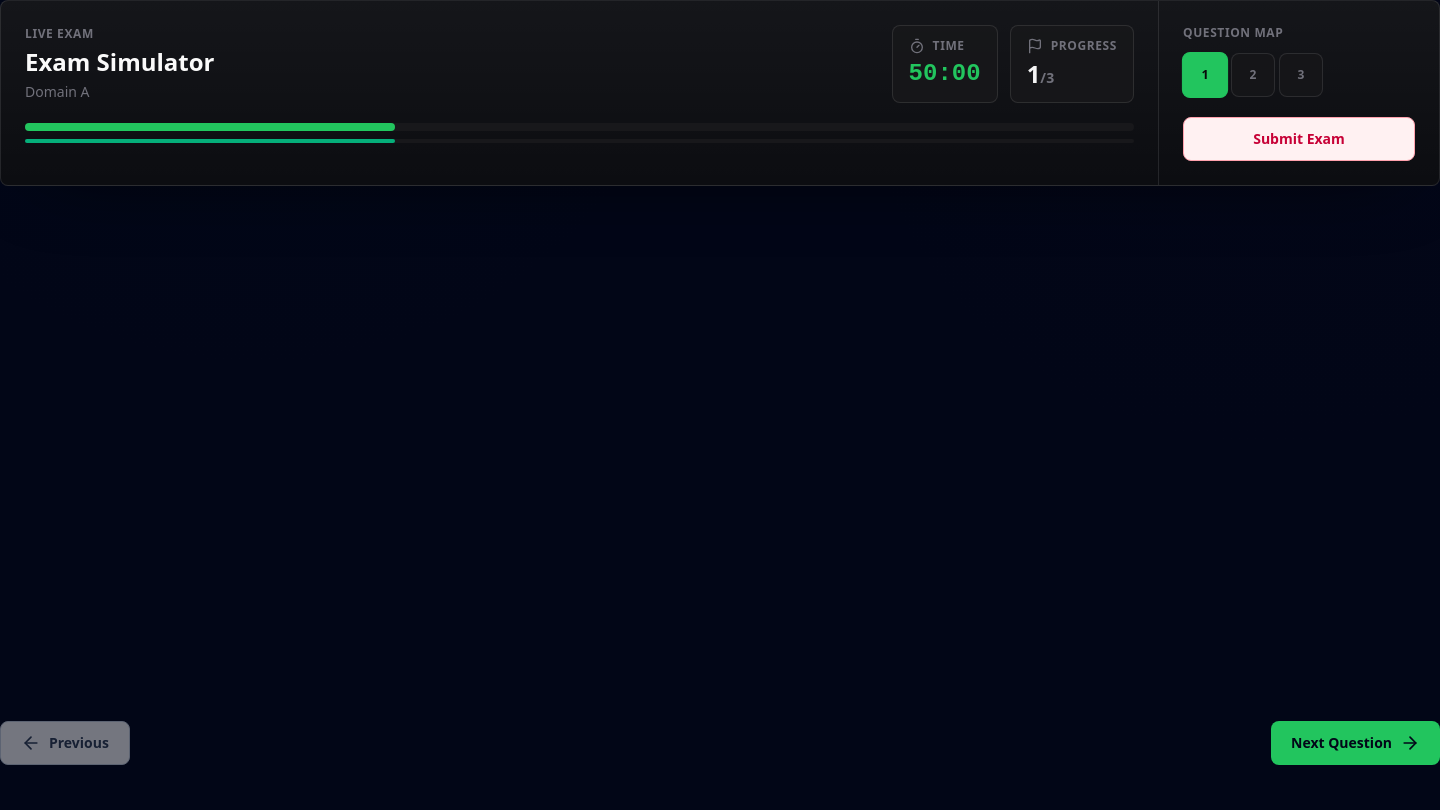
exam submission confirmation › traps focus and closes with Escape
Click the button "Submit Exam": (1299, 139) [1183,117,1415,161]
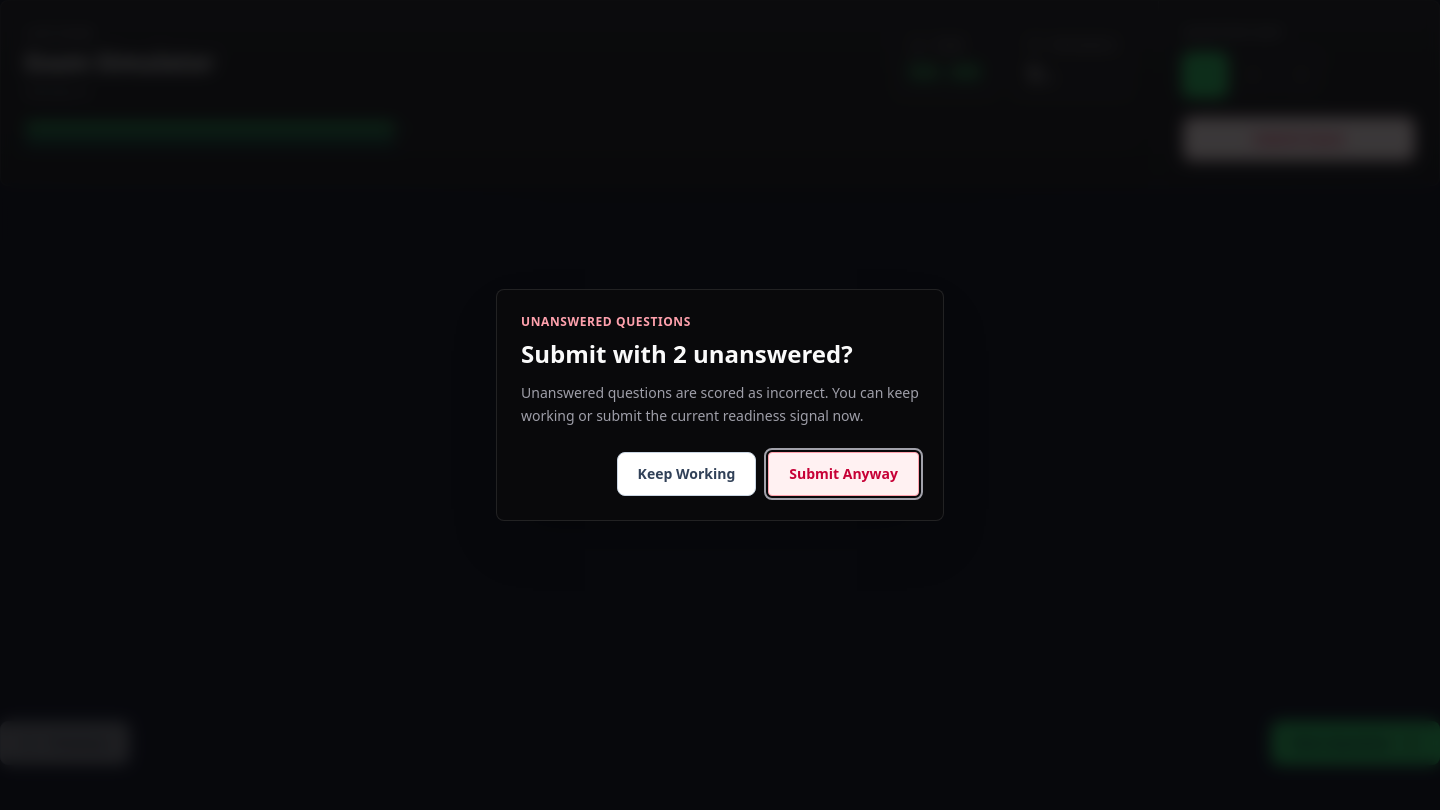
Press Tab
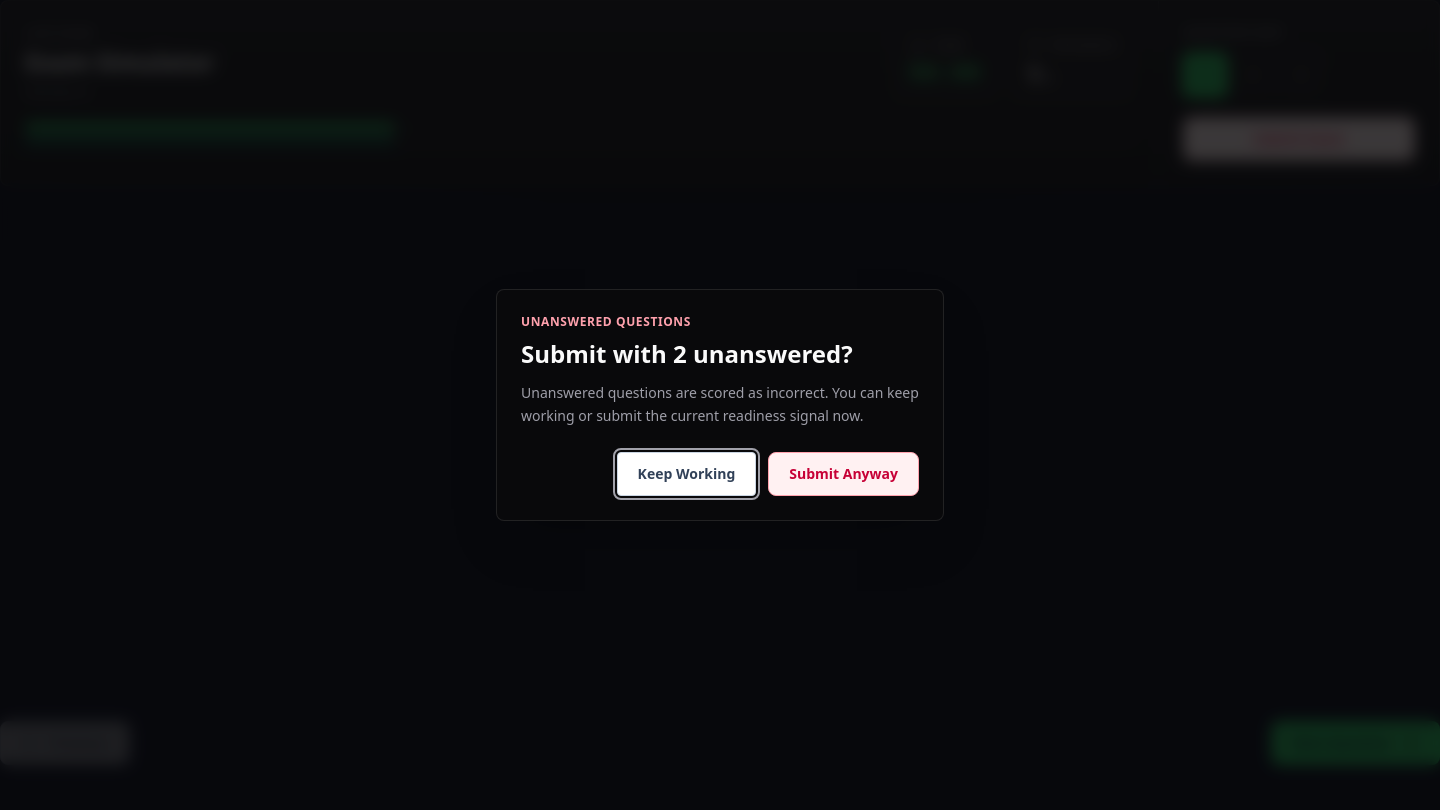
Press Tab
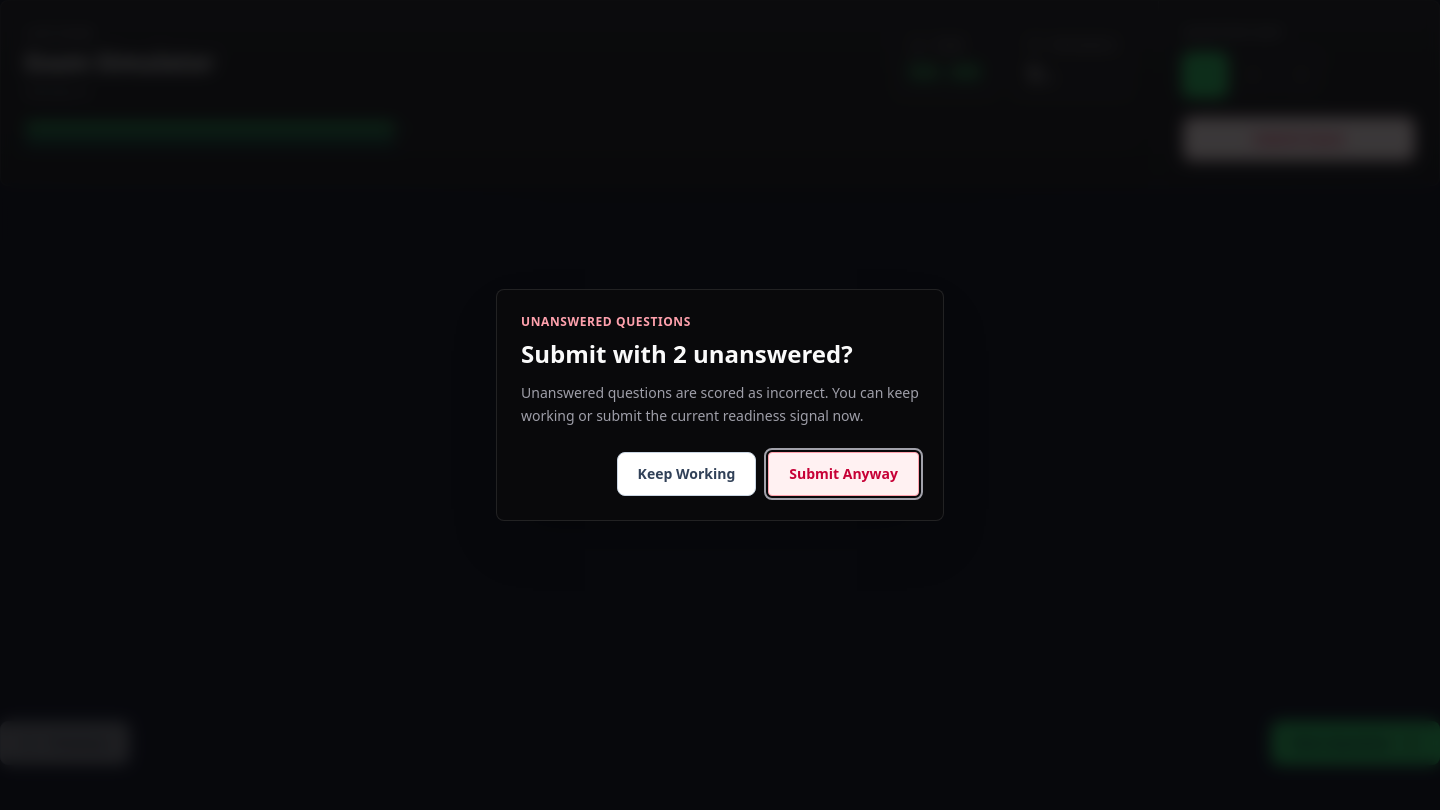
Press Escape
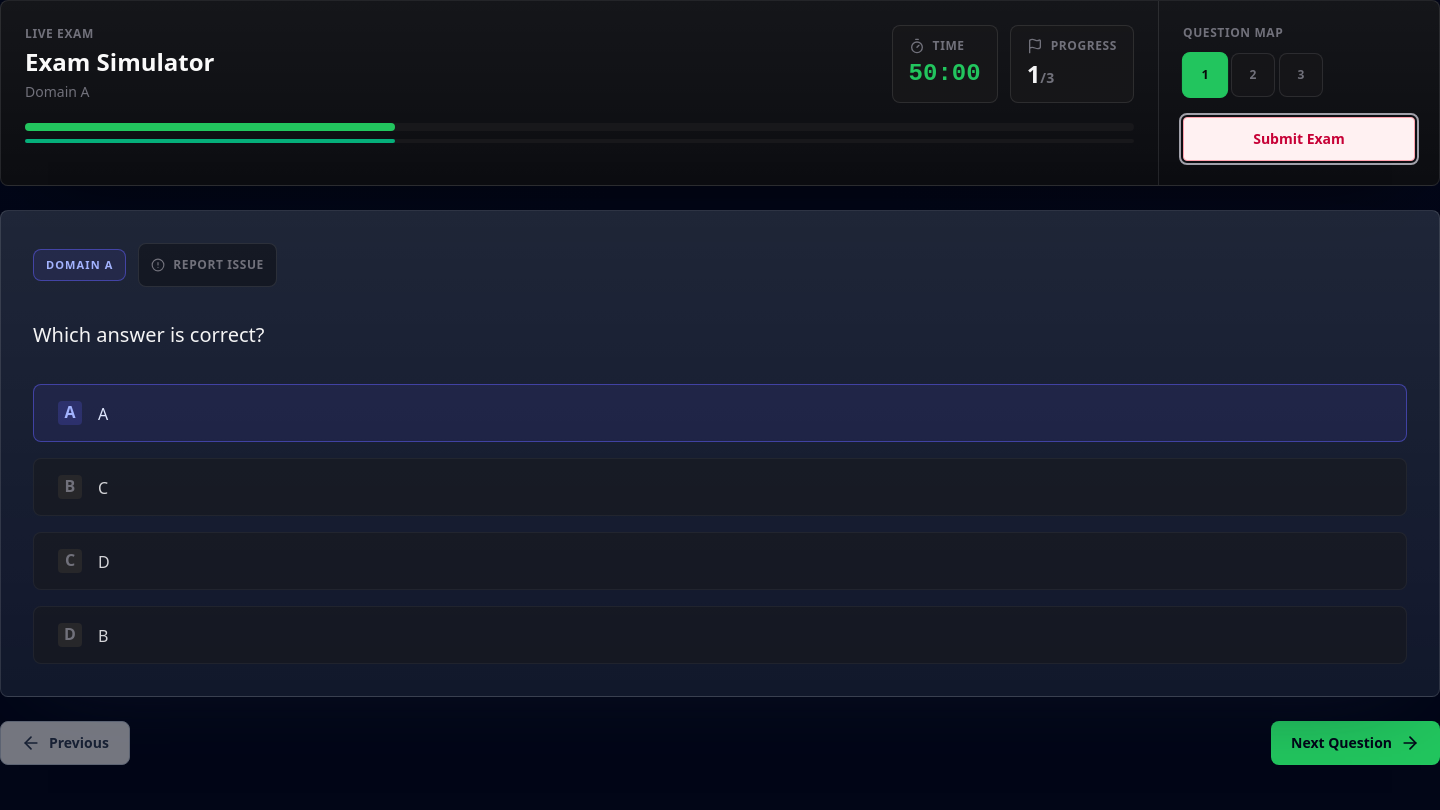
Now the dialog is gone
